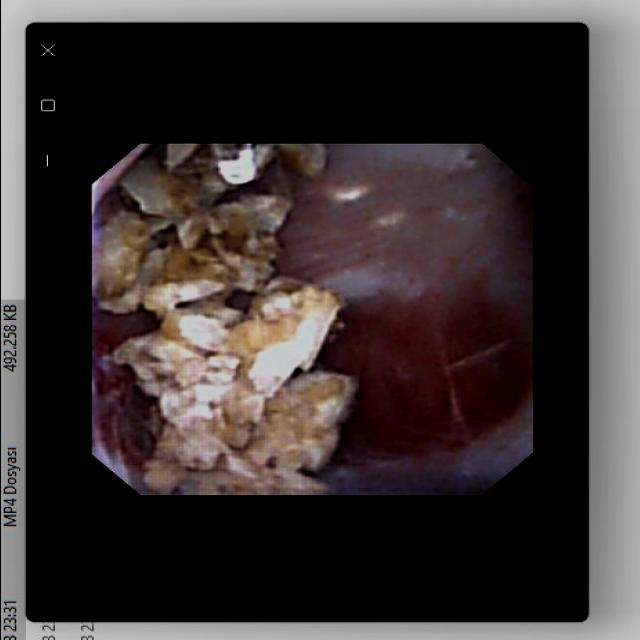stone: (99, 146, 347, 490)
